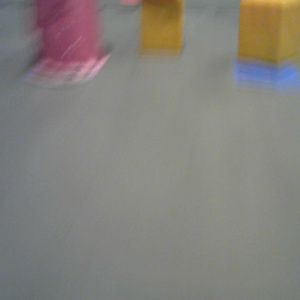middle: (24, 1, 112, 80)
